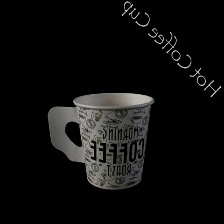paper_cup: (43, 86, 160, 193)
